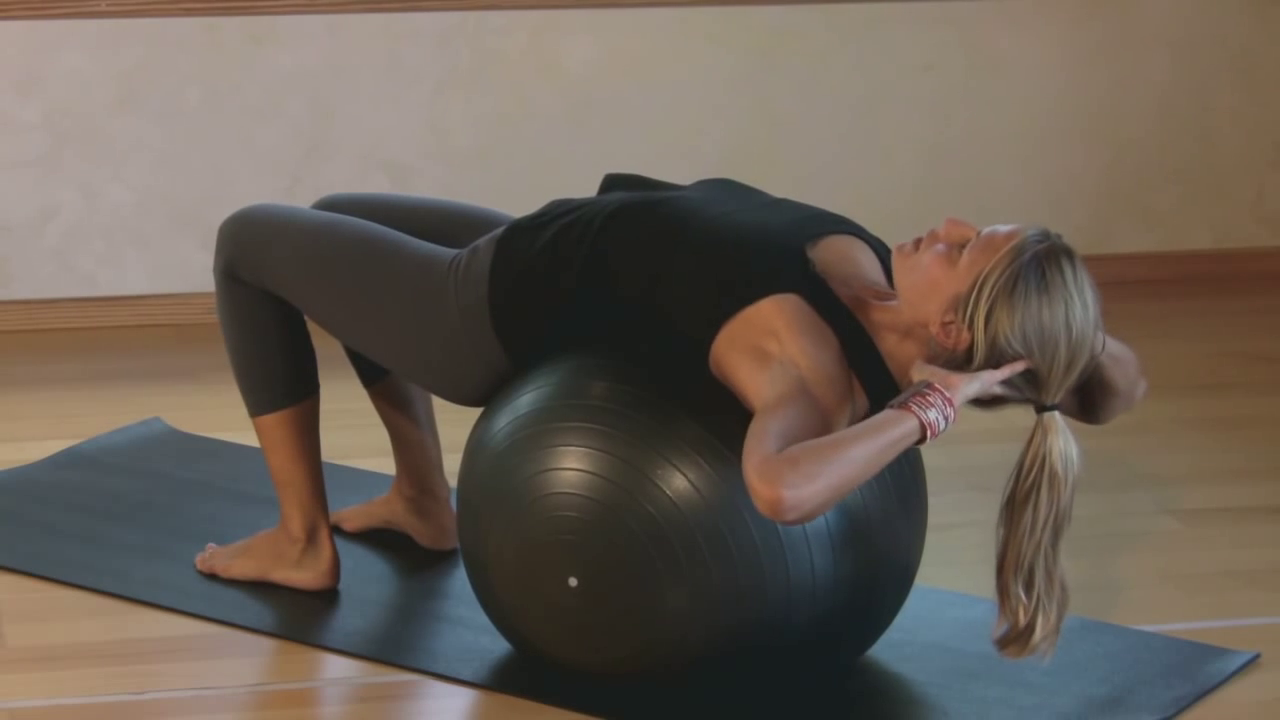yogaball: (453, 333, 937, 694)
